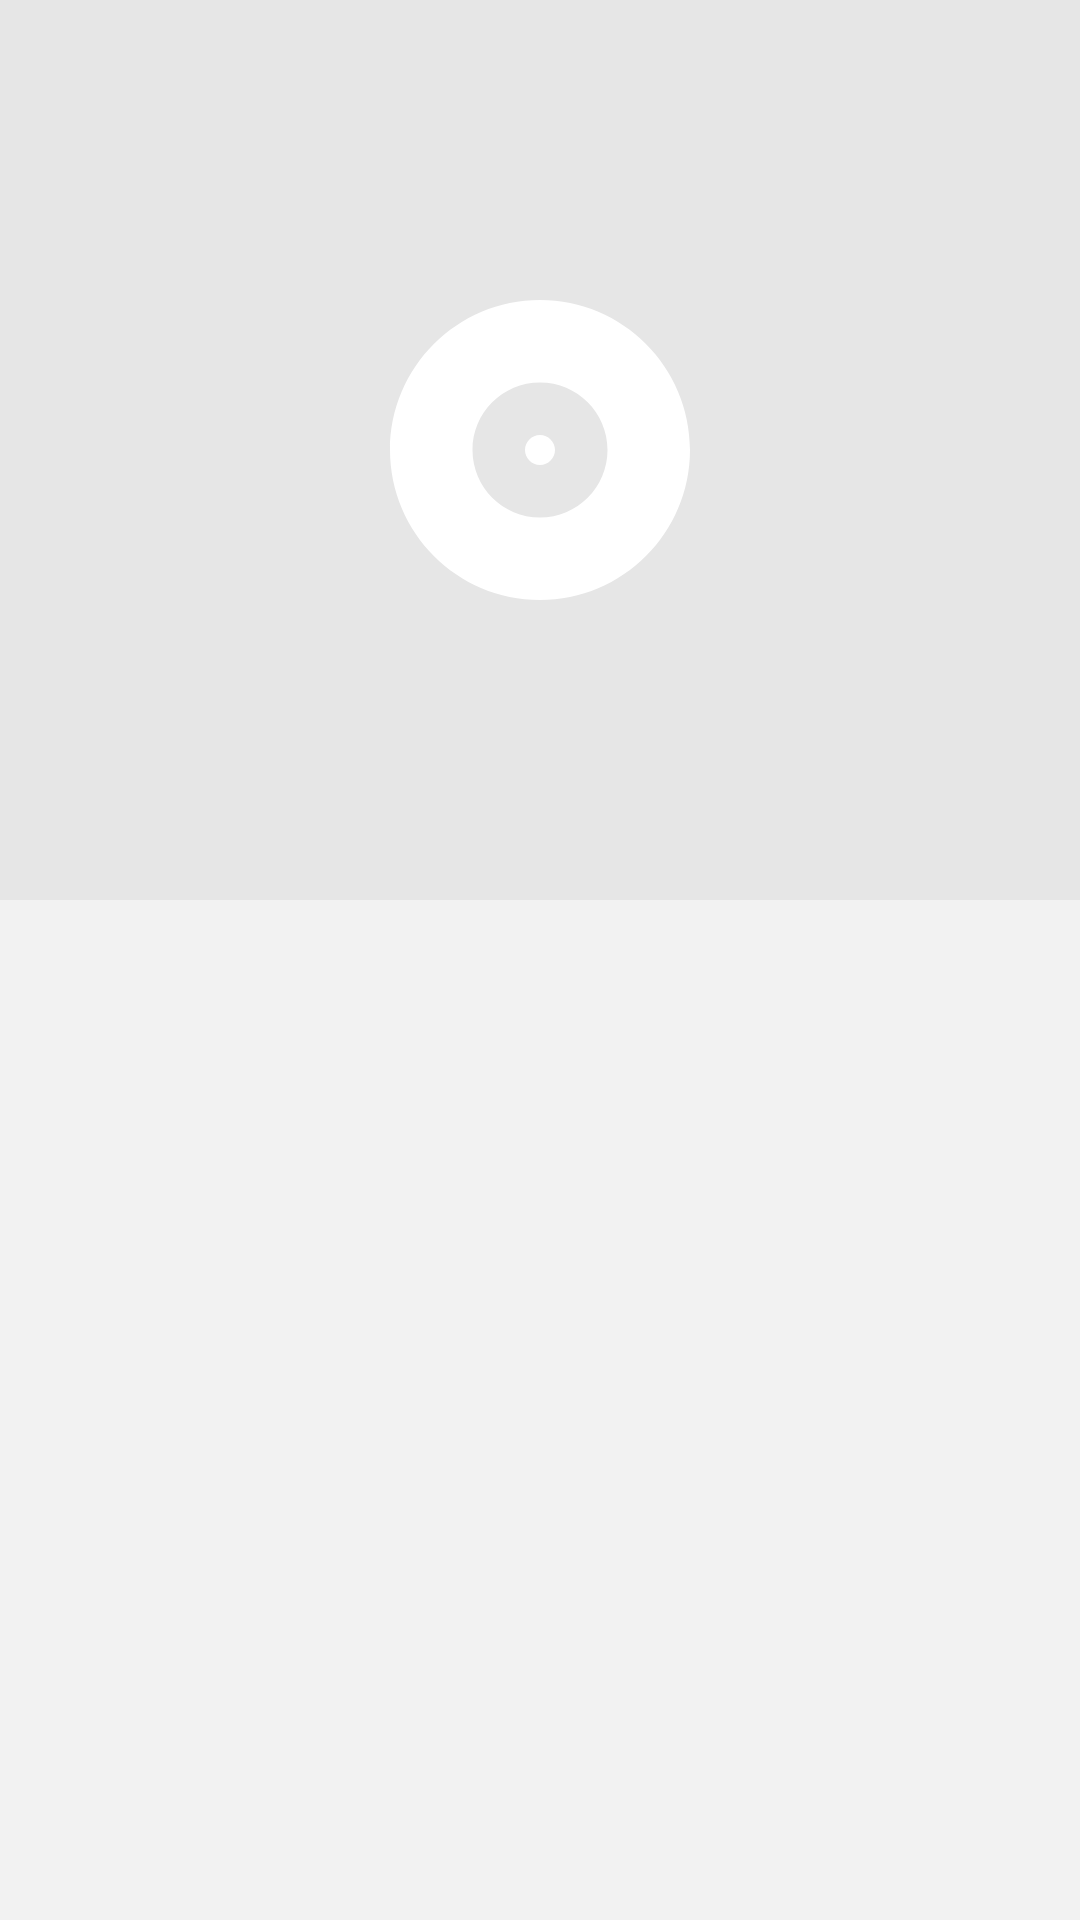

Screen size 1080px x 1920px. Icon name, then its box in pixels as BBox(x1, y1, x2, y2):
album: BBox(390, 300, 690, 600)
